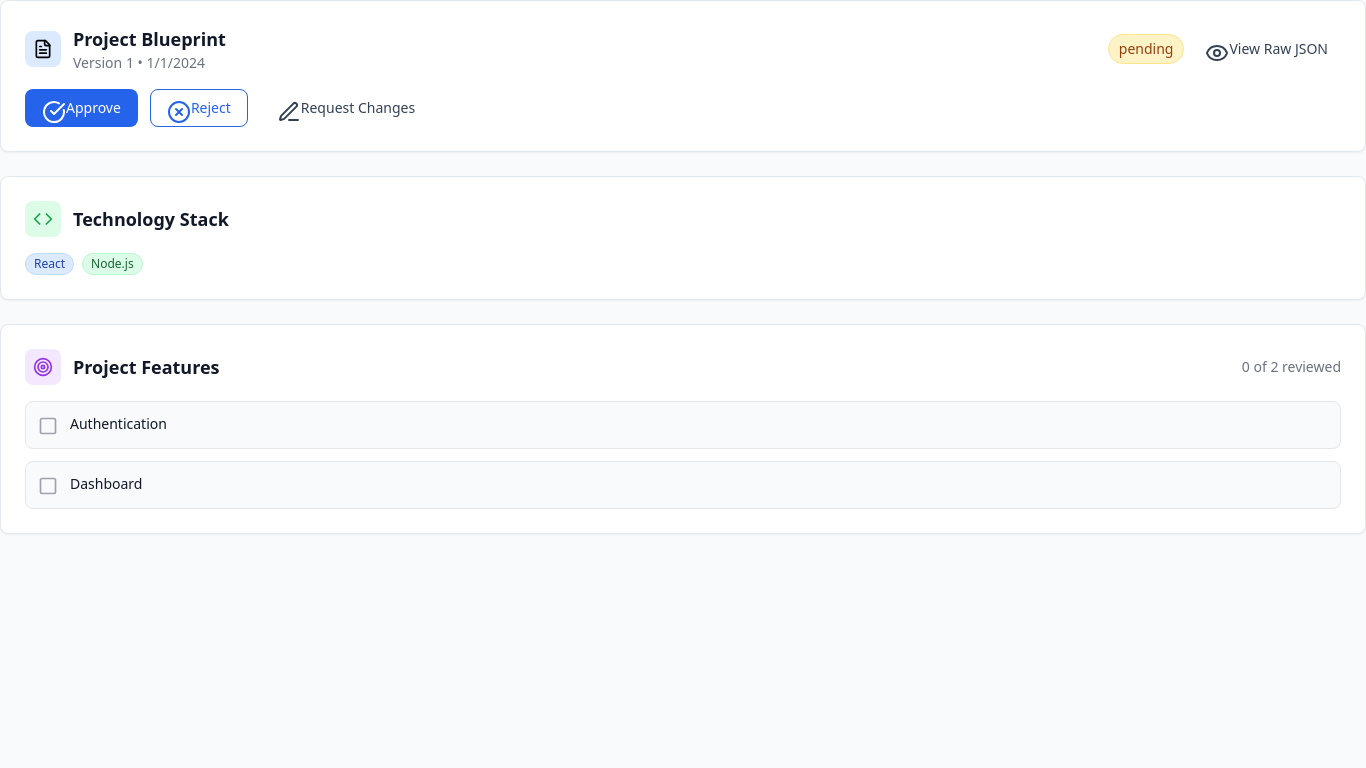
AIResponseViewer › Approval Workflow › adds common rejection reasons when clicked
// Open reject modal
Click the button "Reject". click: (199, 108)
box: [150,89,248,127]
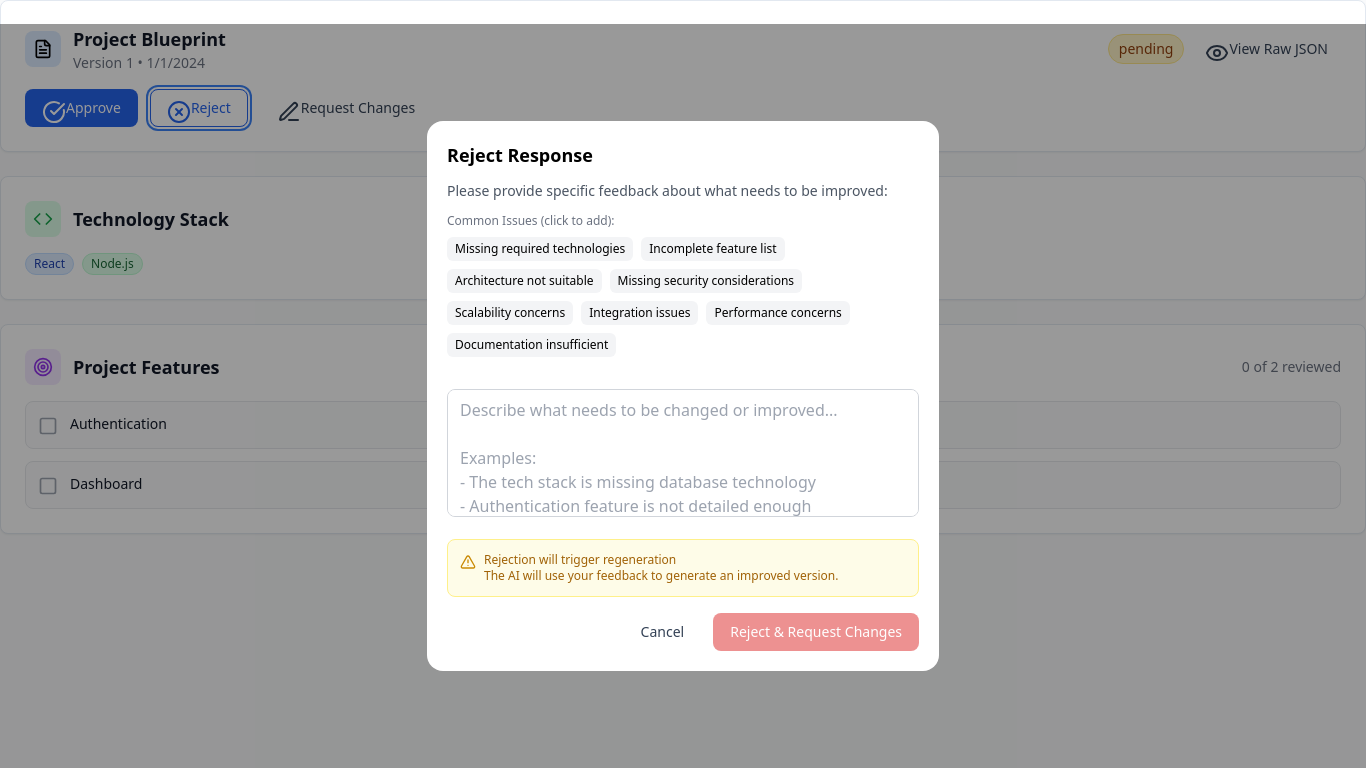
// Click a common reason
Click the button "Missing required technologies". click: (540, 249)
box: [447,237,633,261]
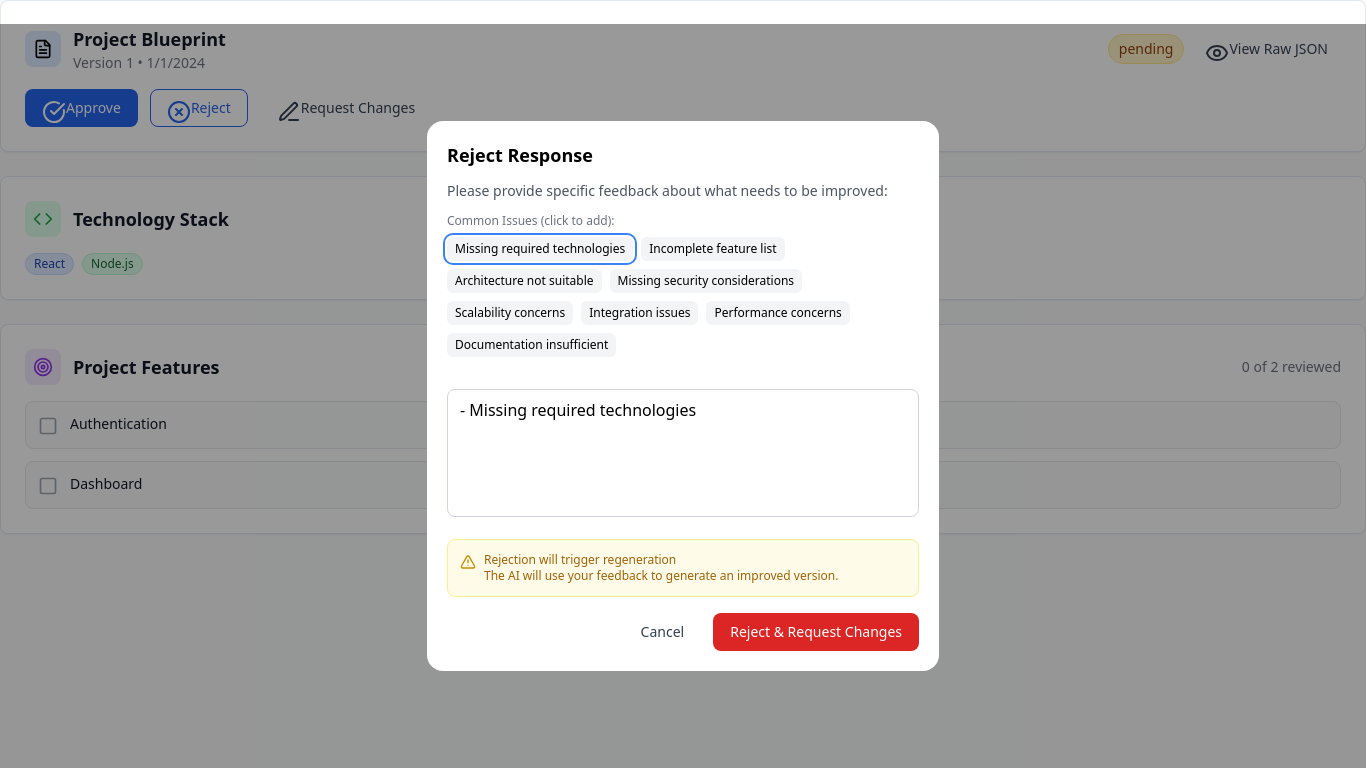
Now the text box with placeholder "Describe what needs to be changed" holds "- Missing required technologies", box [447,389,919,517]
